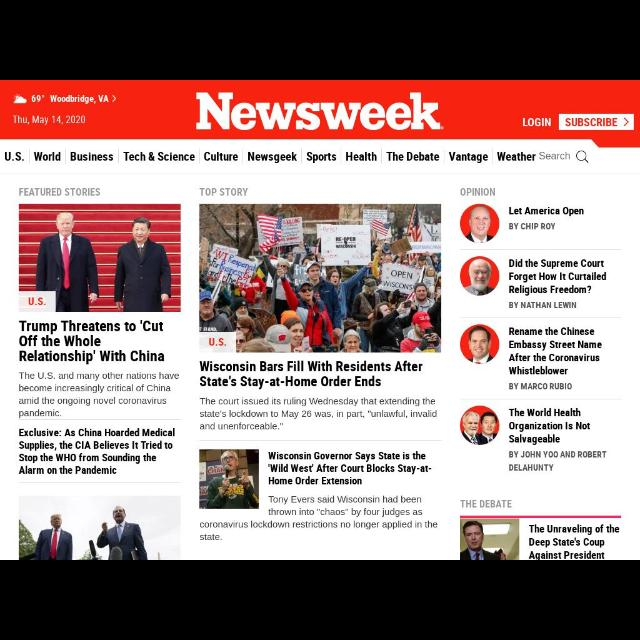icon: (575, 152, 589, 164), (623, 115, 631, 126), (112, 95, 116, 104)
image: (202, 205, 442, 352), (20, 202, 182, 312), (192, 86, 446, 132), (23, 495, 181, 559), (199, 449, 259, 509), (460, 518, 520, 560), (460, 404, 500, 446), (460, 326, 500, 366), (460, 204, 500, 242), (460, 258, 500, 294), (12, 92, 28, 105)
input: (540, 150, 592, 167)
multitab: (3, 139, 609, 171)
text: (17, 320, 179, 476), (198, 357, 438, 431), (268, 448, 440, 518), (505, 404, 607, 474), (505, 326, 603, 390), (194, 519, 442, 543), (508, 254, 608, 310), (528, 524, 622, 558), (506, 205, 586, 231), (32, 91, 108, 105), (12, 113, 88, 127), (385, 148, 441, 166), (18, 186, 102, 198), (124, 150, 196, 162), (445, 150, 489, 167), (246, 149, 298, 163), (496, 148, 536, 166), (458, 498, 514, 510), (197, 186, 250, 198), (520, 112, 558, 128), (568, 116, 618, 126), (68, 150, 118, 160), (204, 151, 238, 163), (346, 148, 379, 160), (306, 150, 338, 162), (460, 187, 498, 197), (34, 150, 62, 162), (2, 150, 24, 162), (542, 153, 572, 161)
textbutton: (560, 114, 636, 130)
toolbar: (1, 80, 639, 138)
